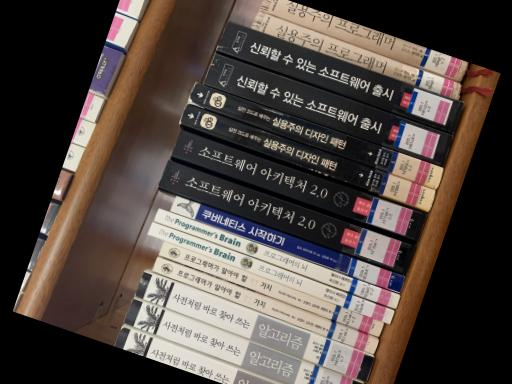book-spine: (157, 158, 417, 275), (203, 52, 453, 166), (171, 129, 427, 240), (216, 20, 464, 133), (179, 102, 436, 210), (187, 81, 444, 188), (134, 269, 375, 382), (146, 220, 395, 322), (154, 206, 400, 308), (151, 255, 380, 354), (170, 195, 406, 291), (158, 240, 385, 337), (123, 297, 364, 384), (250, 9, 461, 99), (259, 0, 468, 80), (113, 324, 283, 384)
